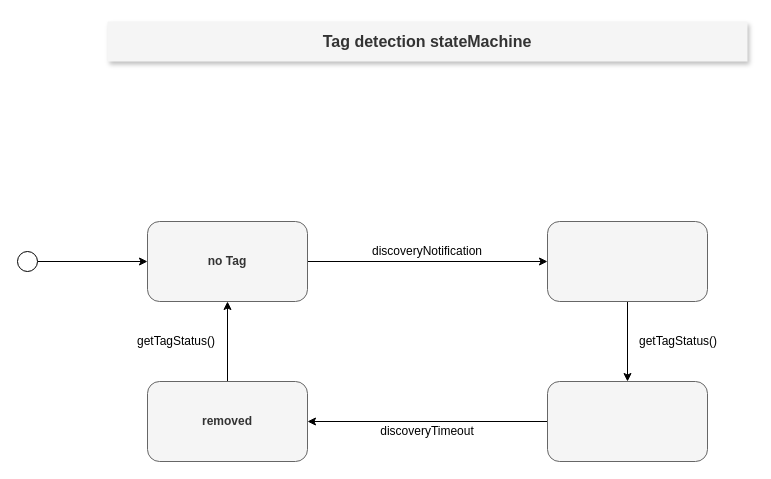
This 771x479 diagram has some shape labels left out. Here are the shapes that lost their labels. From the top down, the centre of each, then its label:
At pixel 627 261: "new Tag".
At pixel 627 421: "old Tag".
